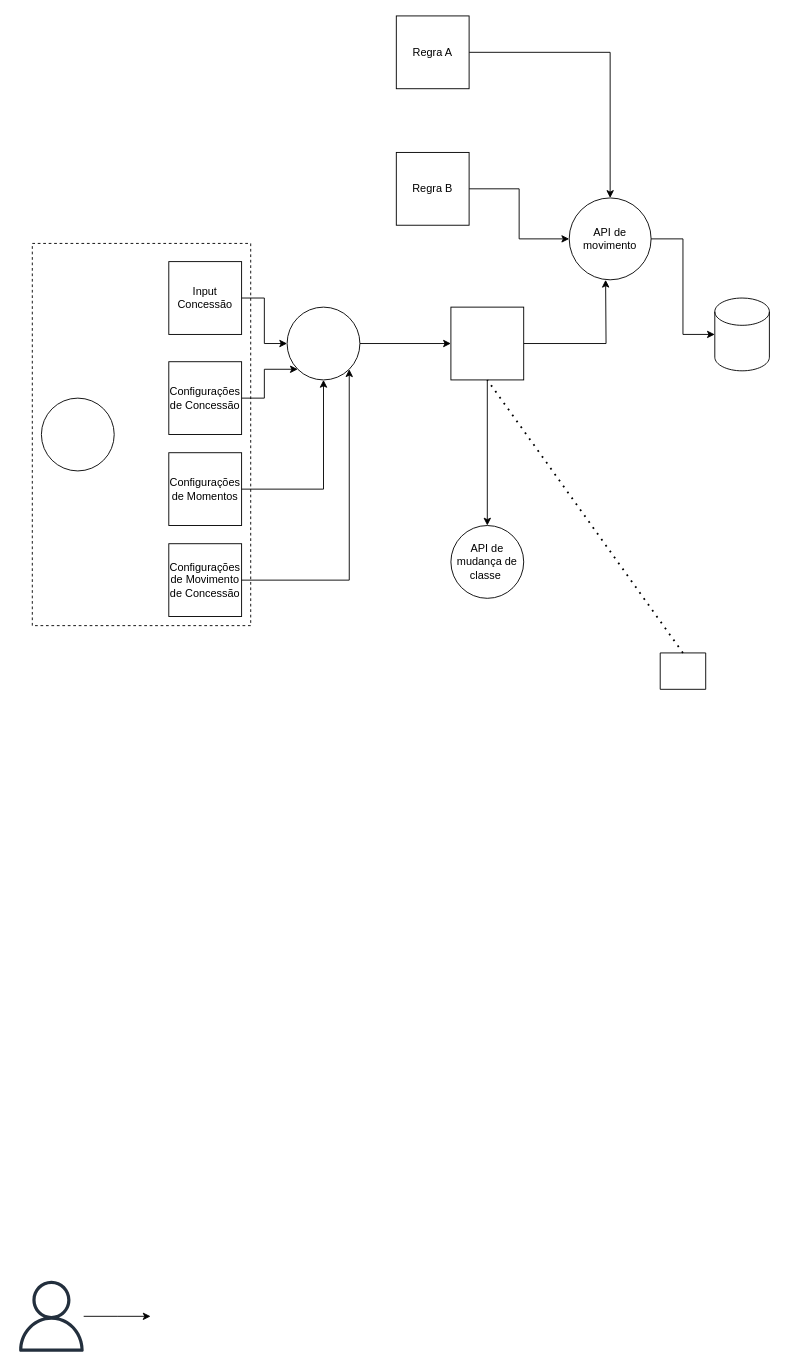
The diagram is 785 pixels wide and 1368 high, and some of its shapes have lost their labels. The centre of each missing label's shape, as x and y in pixels:
API de Concessão: [77,434]
Bundle Movimento Concessão: [323,343]
DB: [741,334]
Regra Movimento Concessão: [487,343]
